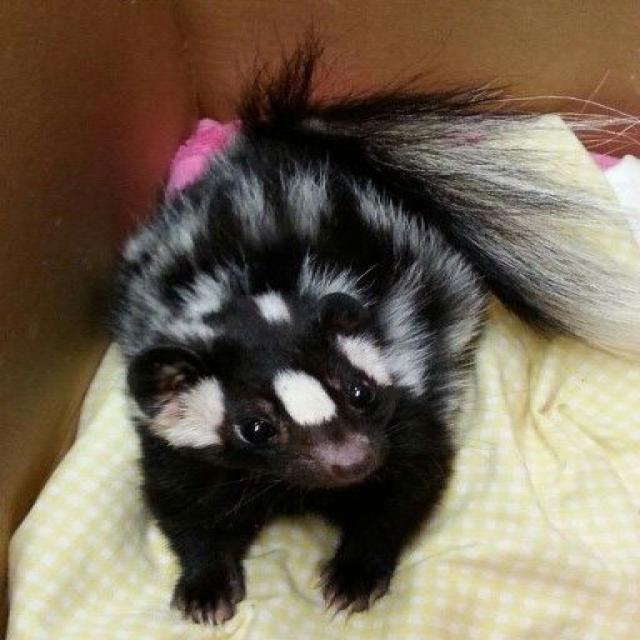Skunk: (28, 71, 640, 632)
